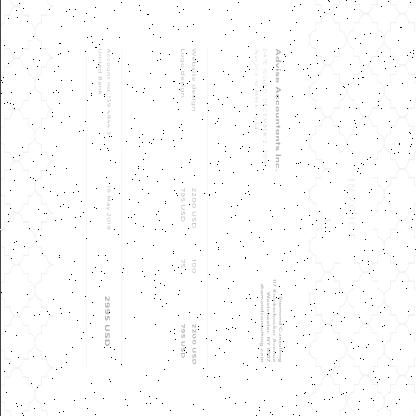Paragraph: (251, 46, 283, 174), (92, 46, 132, 138), (258, 277, 284, 365), (100, 290, 134, 349), (102, 180, 134, 233), (344, 175, 359, 242)
Table: (172, 44, 219, 368)
